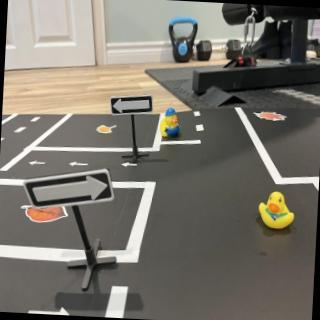duck_regular: (258, 185, 300, 235)
duck_specialty: (158, 109, 184, 143)
road_oneway: (68, 159, 92, 171), (28, 158, 49, 170), (120, 162, 140, 173)
sign_oneway_left: (112, 95, 156, 117)
sign_oneway_right: (26, 164, 117, 213)
